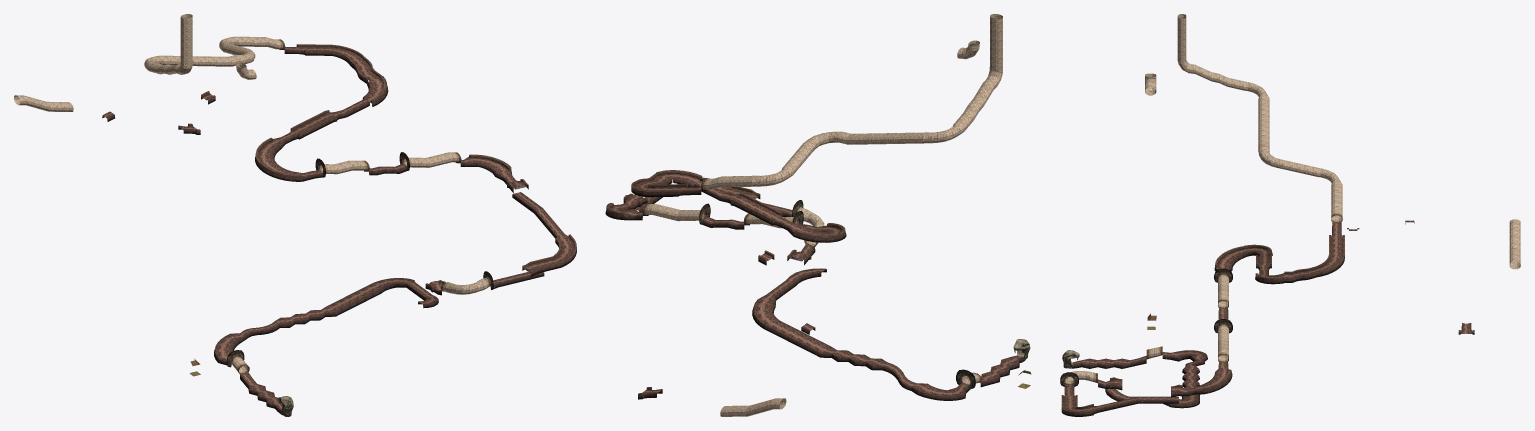
3 renders of one model, left to right at view 1: azimuth 30°, elevation 25°; view 2: azimuth 150°, elevation 25°; view 3: azimuth 270°, elevation 25°, orthographic. The views are drawn at different scales.
Bounding box in the file's own units: 184 × 182 × 227.
Materials: 1 (1 with a texture image).
